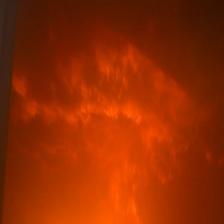fire: (9, 37, 197, 215)
